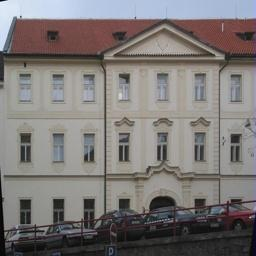building: (0, 13, 256, 226)
